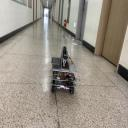cart: (52, 61, 78, 94)
